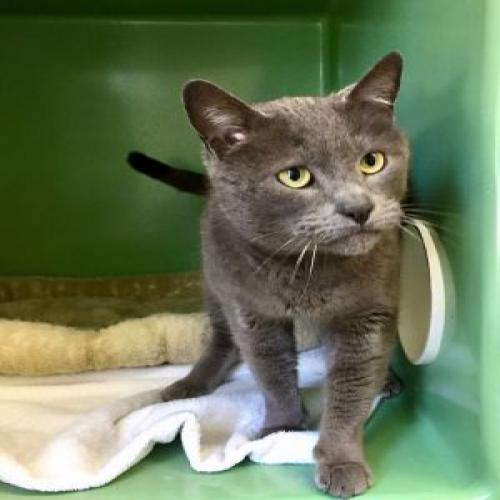rblue: (174, 43, 432, 285)
